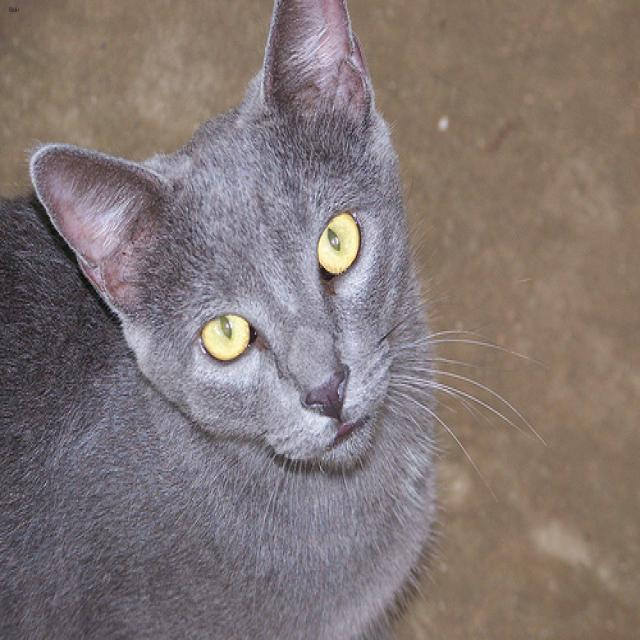Russian_Blue: (26, 0, 408, 469)
